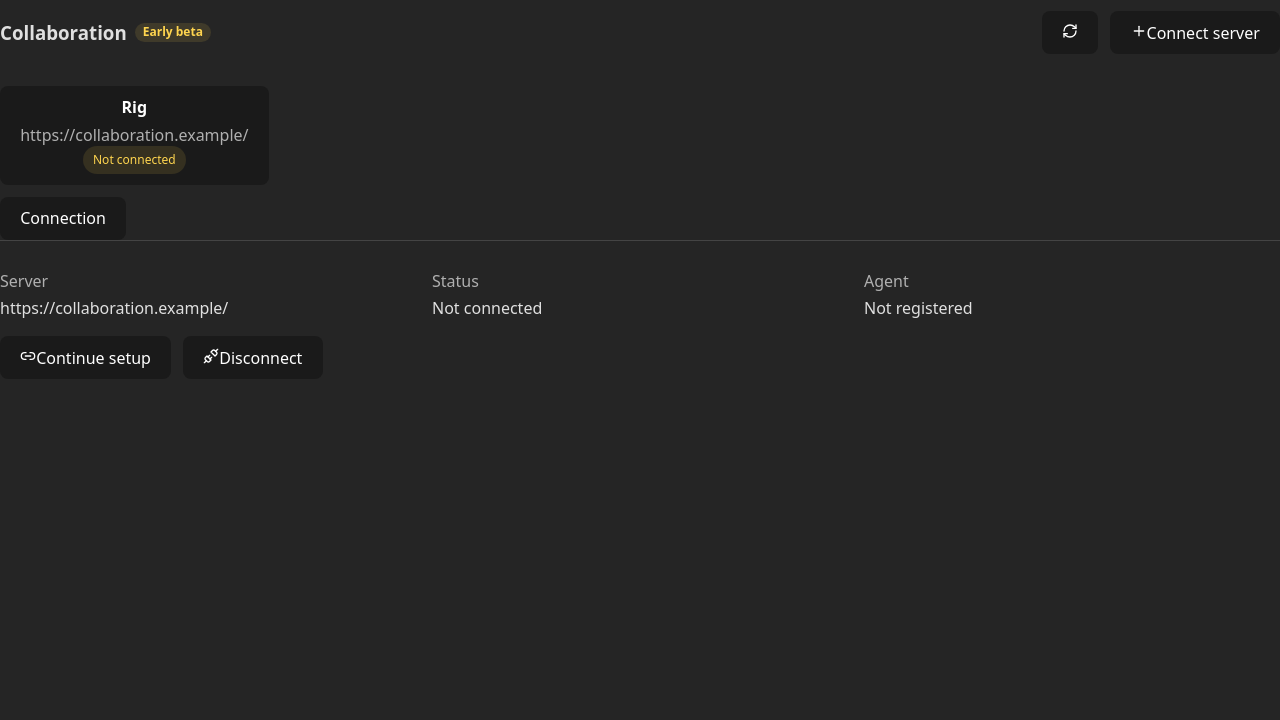
Test: CollaborationConnections › allows a new browser sign-in when approval expires
Click the button "Continue setup". click: (86, 358)
box: 0,336 -> 171,379
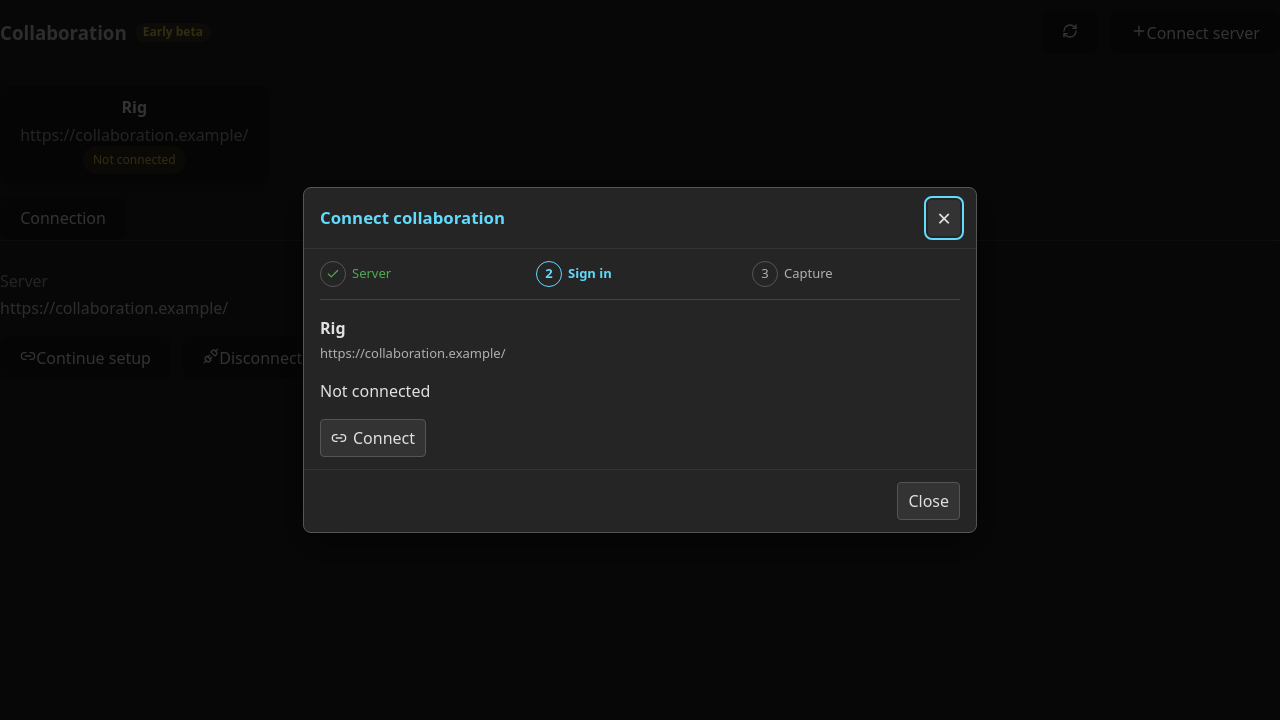
Click the button "Connect". click: (373, 438)
box: 320,419 -> 426,457
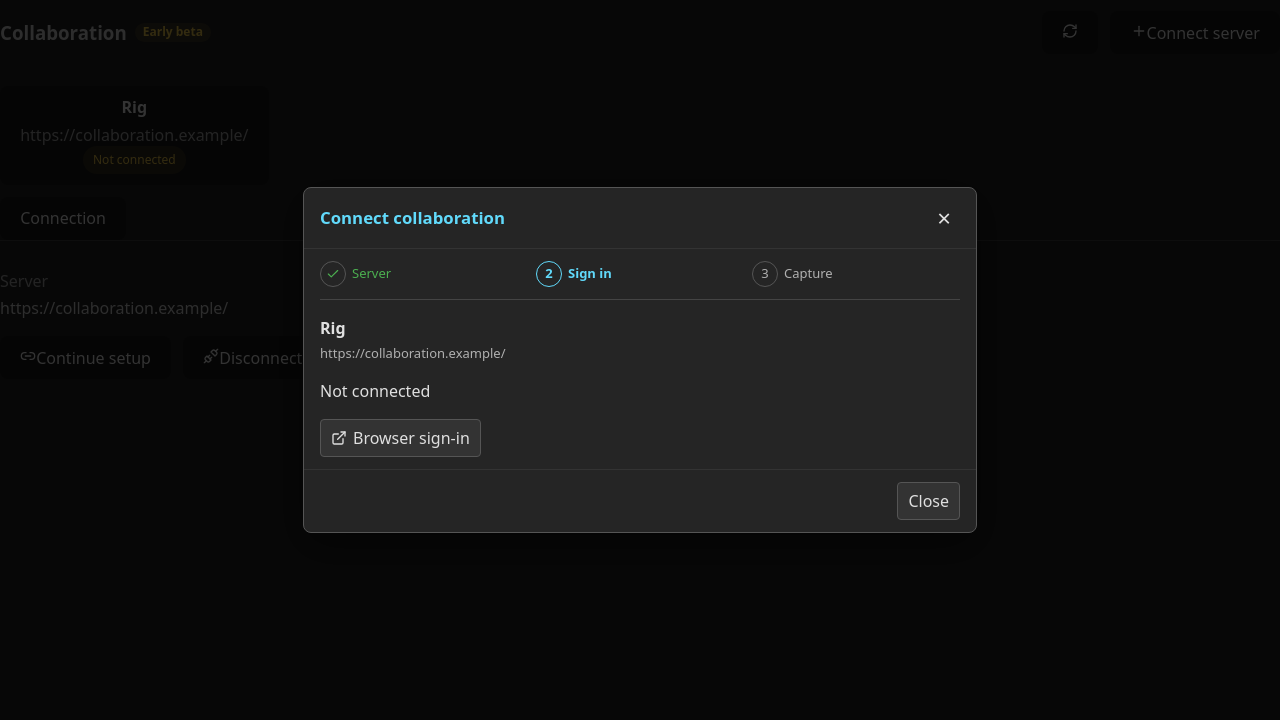
Click the button "Browser sign-in". click: (400, 438)
box: 320,419 -> 481,457
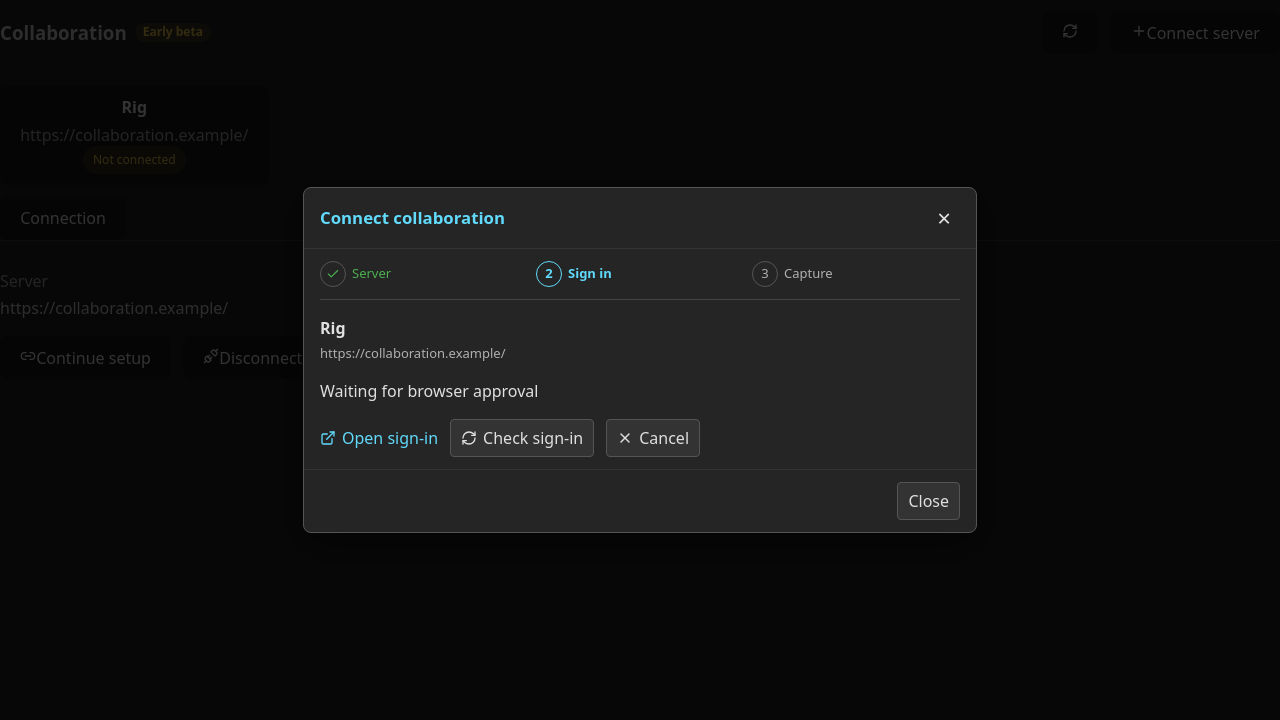
Click the button "Check sign-in". click: (522, 438)
box: 450,419 -> 594,457
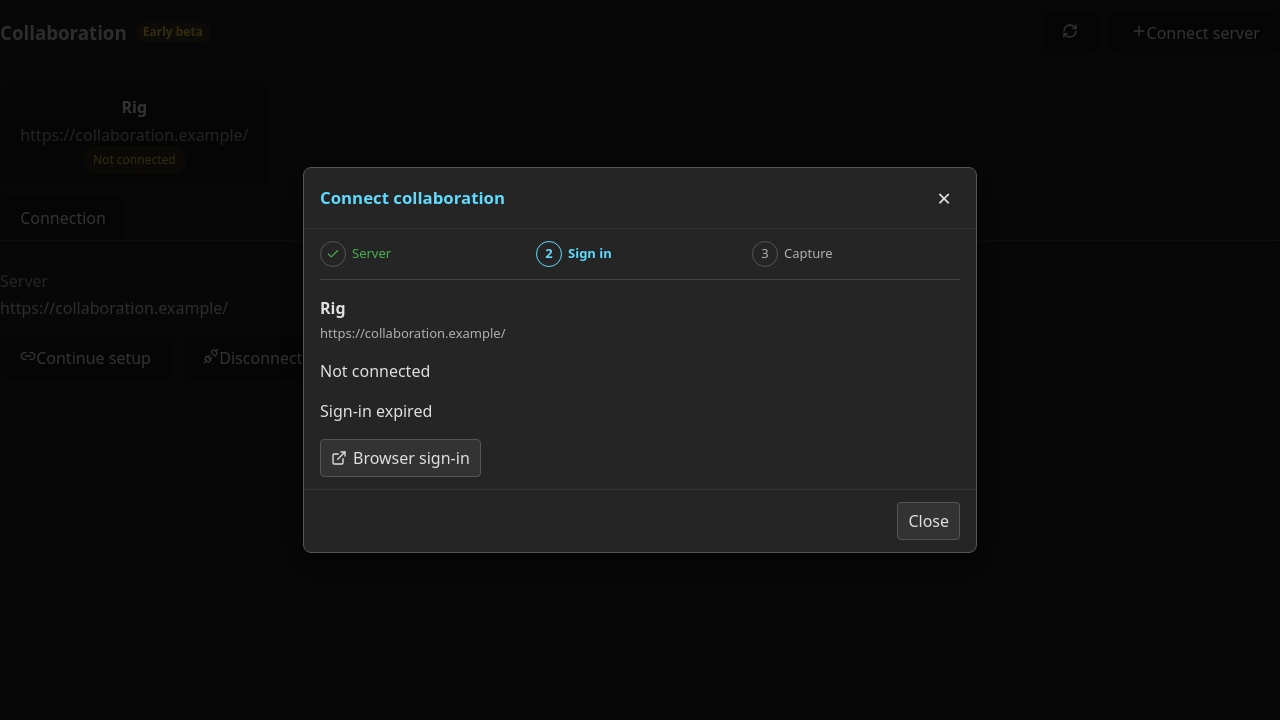
Expected: the message "Sign-in expired" is shown, 320,400 -> 432,422
Expected: the link "Open sign-in" is gone
Expected: the button "Browser sign-in" is enabled, 320,439 -> 481,477
